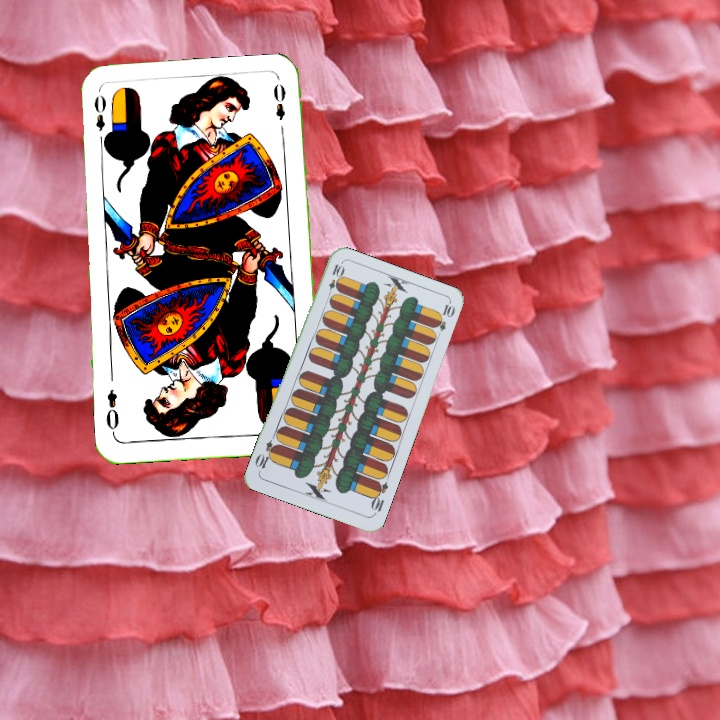E10: (367, 477, 391, 518), (324, 260, 345, 300)
EO: (90, 91, 111, 148)
